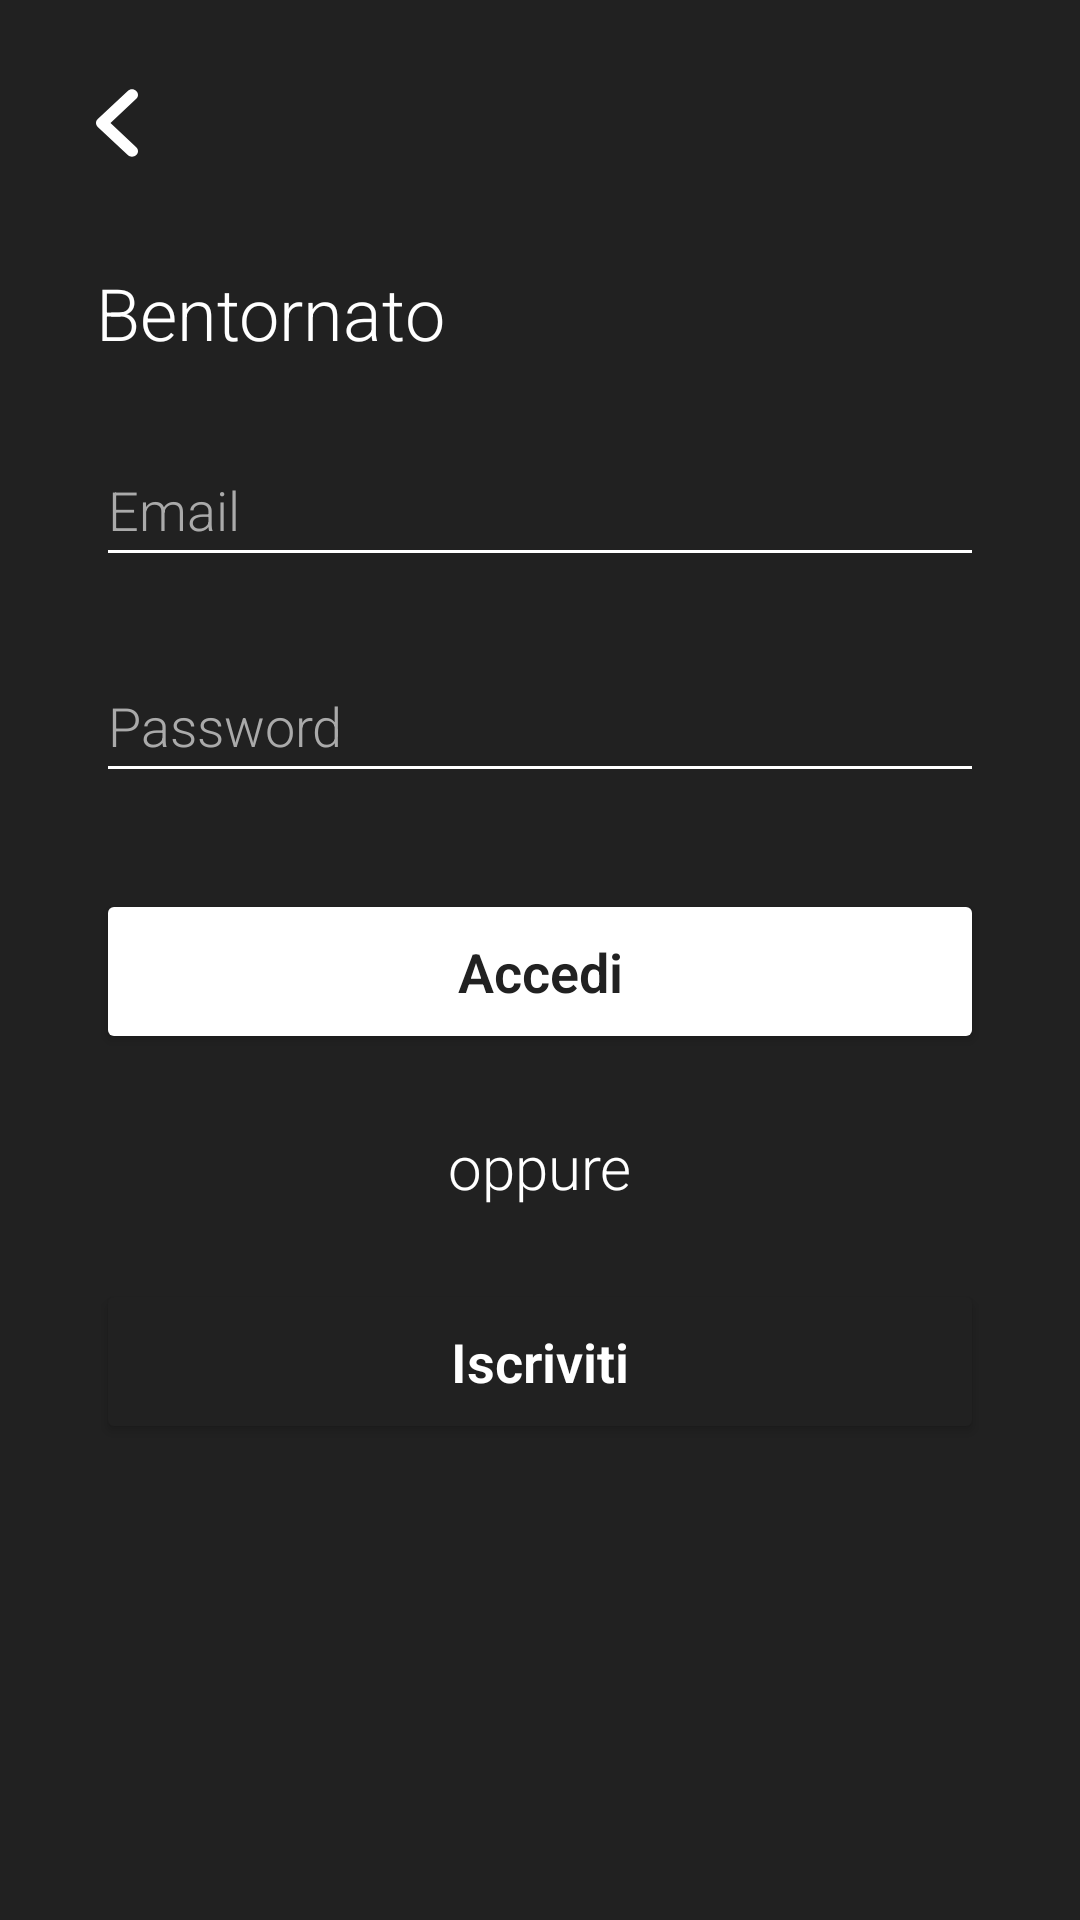

Locate icon controls on the screen. Image size 1080px x 1920px, boxes as (x1, y1, x2, y2).
angle left: (96, 89, 138, 157)
